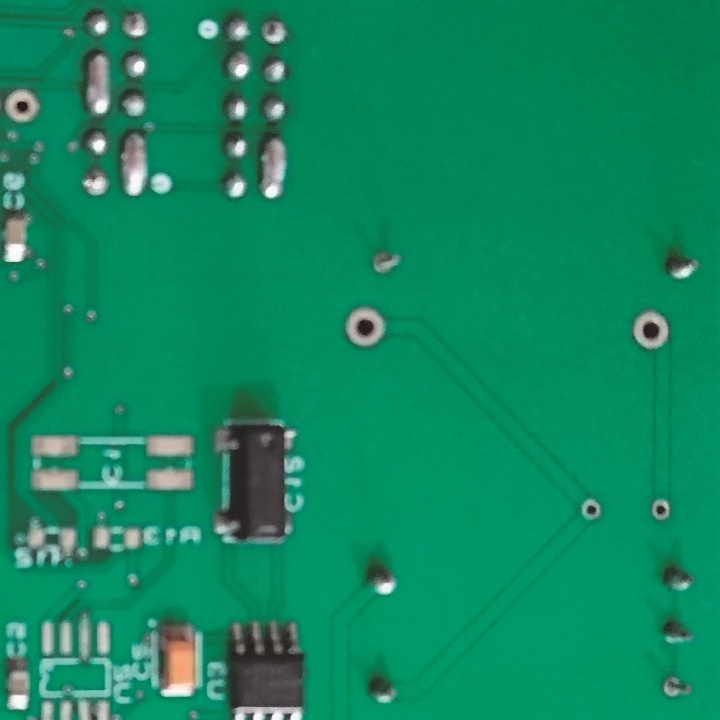F: (344, 303, 388, 352), (630, 308, 673, 355), (2, 89, 45, 128), (370, 246, 407, 278), (661, 670, 695, 703), (81, 168, 112, 200), (120, 8, 151, 39), (256, 18, 289, 46), (579, 495, 603, 525), (649, 495, 672, 522)
P: (117, 126, 150, 203), (81, 46, 111, 118), (258, 133, 287, 200)
